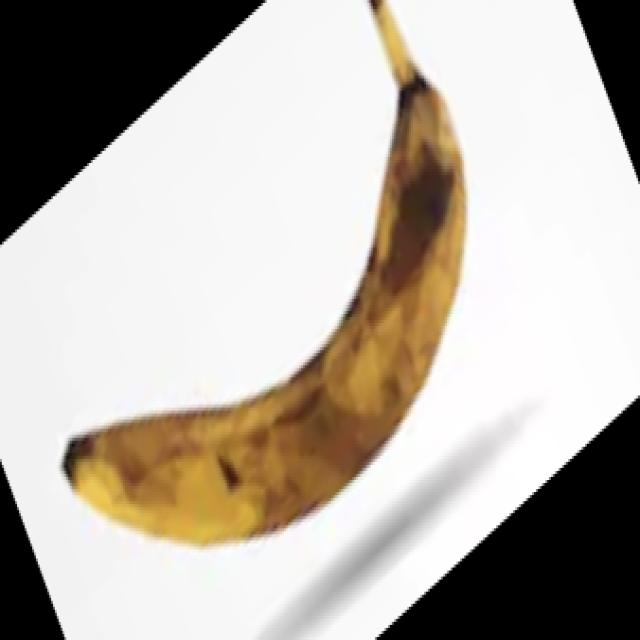overripe: (60, 0, 471, 549)
